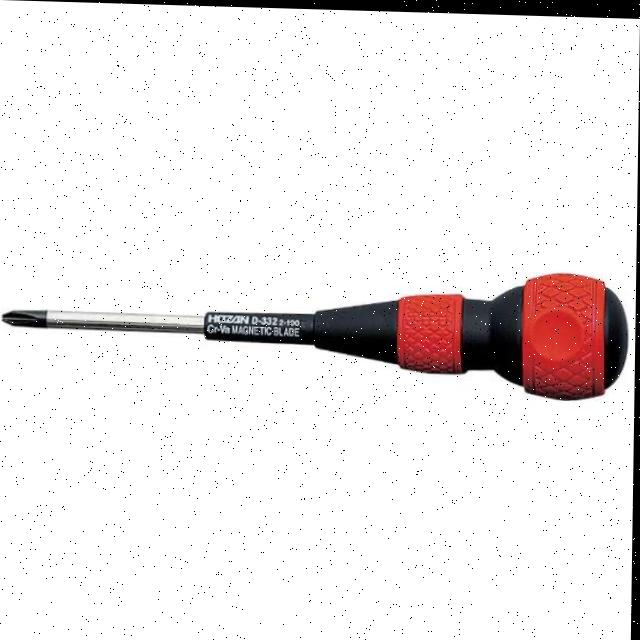Screwdriver: (4, 271, 629, 396)
